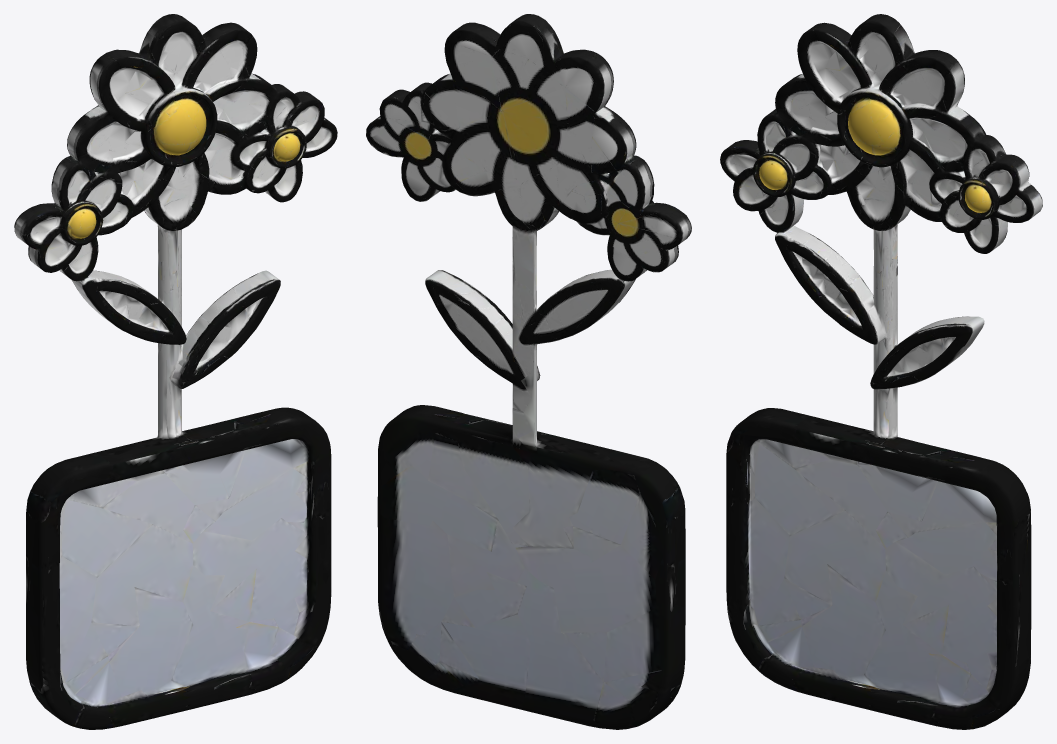
File: plant.glb
3 renders of one model, left to right at view 1: azimuth 30°, elevation 25°; view 2: azimuth 150°, elevation 25°; view 3: azimuth 330°, elevation 25°, orthographic.
Size of the model in its own units: 0.9127 by 1.9 by 0.0971.
1 material, 1 textured.
